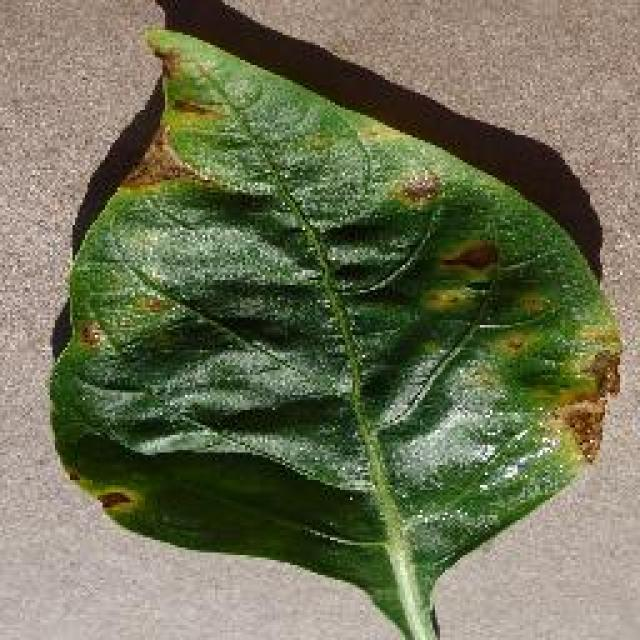Chilli_Bacterial_Spot: (45, 20, 625, 635), (555, 395, 607, 465), (432, 235, 500, 283), (387, 165, 445, 213), (415, 280, 477, 320), (585, 348, 623, 398), (510, 288, 552, 322), (93, 485, 135, 517), (70, 317, 105, 355), (130, 288, 168, 320), (498, 330, 530, 360)
